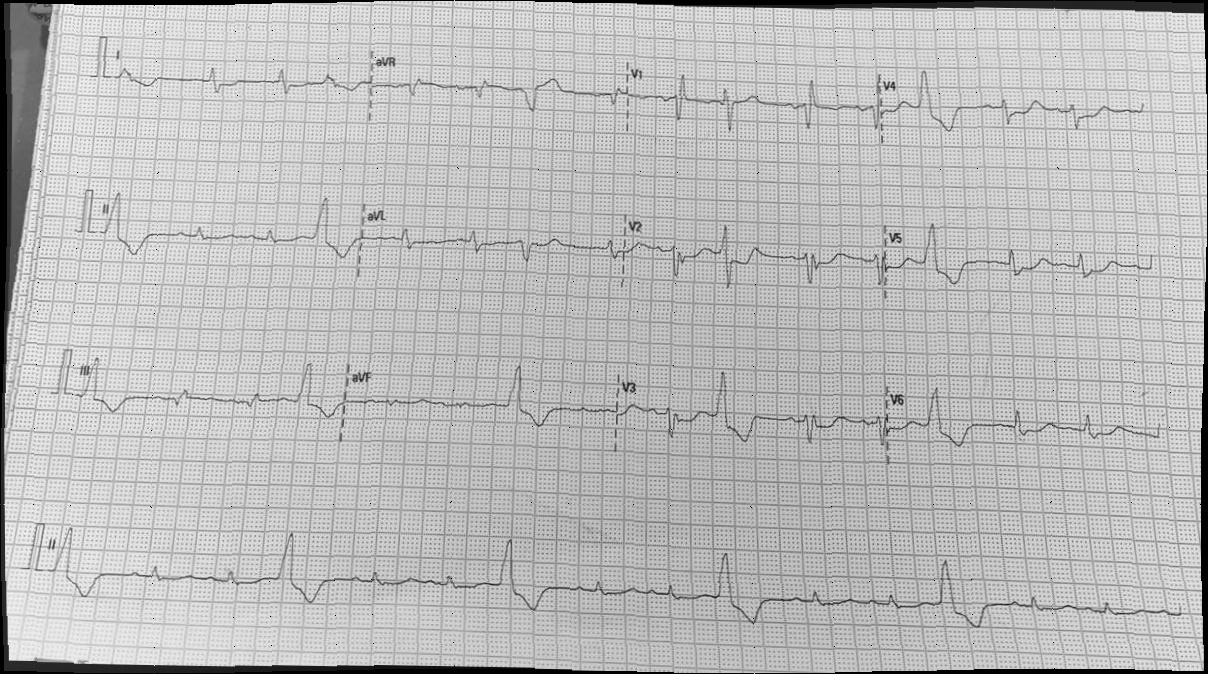Lead_I: (99, 29, 368, 123)
Lead_II: (84, 177, 356, 284)
Lead_III: (66, 346, 345, 450)
Lead_II_ext: (37, 511, 1194, 651)
Lead_V1: (625, 40, 877, 151)
Lead_V2: (620, 196, 886, 299)
Lead_V3: (618, 358, 894, 476)
Lead_V4: (875, 55, 1148, 151)
Lead_V5: (883, 212, 1161, 304)
Lead_V6: (889, 367, 1176, 466)
Lead_aVF: (343, 347, 620, 464)
Lead_aVL: (354, 189, 621, 293)
Lead_aVR: (364, 39, 626, 124)
